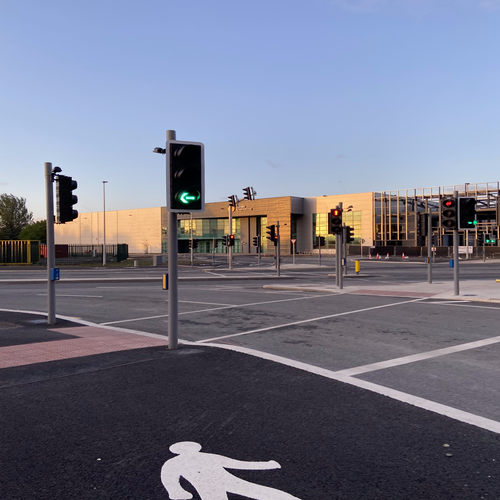Traffic Light: (160, 137, 209, 212), (48, 171, 82, 226), (326, 203, 348, 240), (459, 196, 482, 230), (439, 194, 457, 228)
